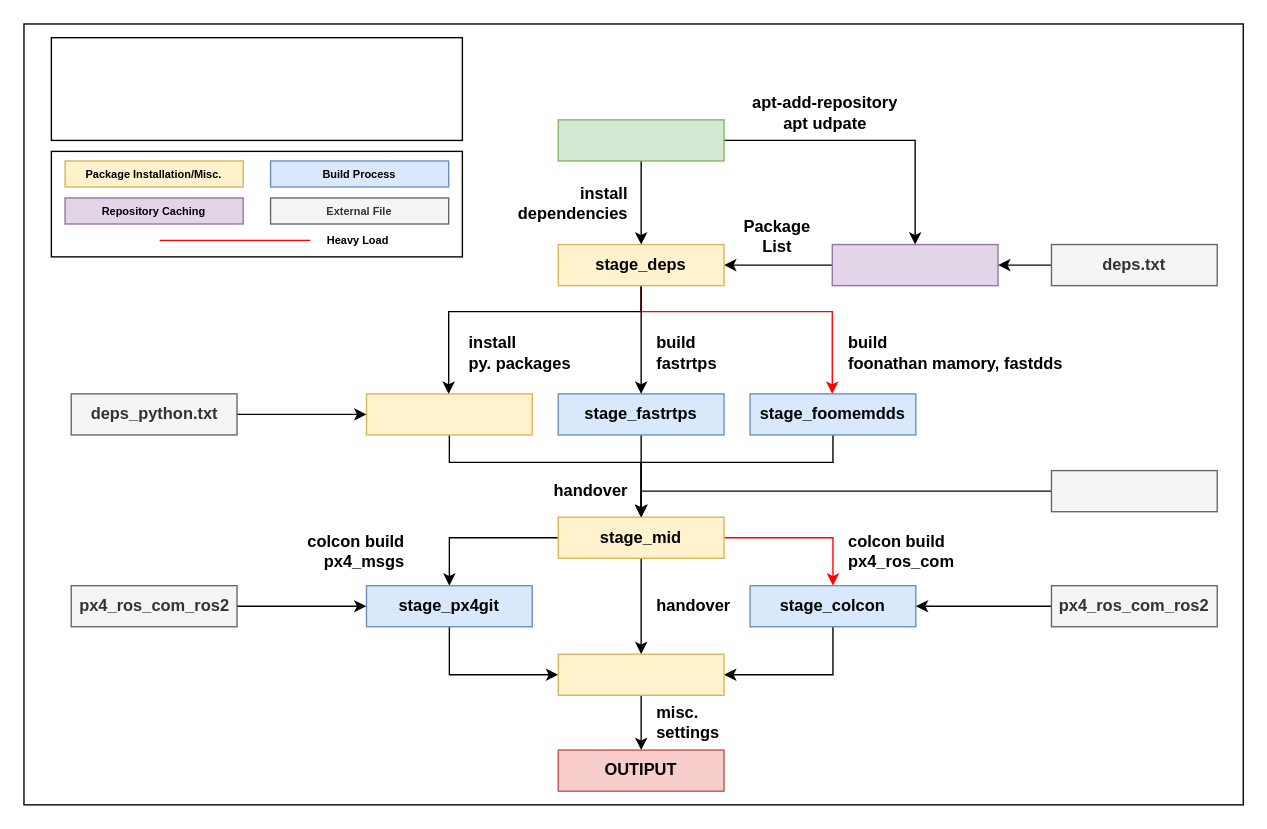
The diagram is 1267 pixels wide and 829 high, and some of its shapes have lost their labels. The centre of each missing label's shape, as x and y in pixels:
acsldocker/px4:base Multi-Stage Build Workflow Block Diagram Rev. 20220719A: the point at 256,88
BASEIMAGE: the point at 640,140
PX4-Autopilot: the point at 1133,490
stage_apt: the point at 914,264
stage_final: the point at 640,674
stage_python: the point at 448,414
